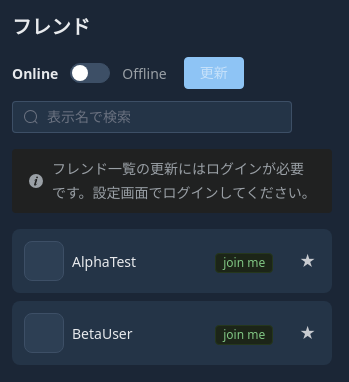
Test: FriendsView › filters friends by display name (case-insensitive)
# ElInput の data-testid は inner input に行くため直接 setValue
Type "beta" into the search field with test id "friends-search-display-name" at [164, 117], box 47,102 -> 281,132
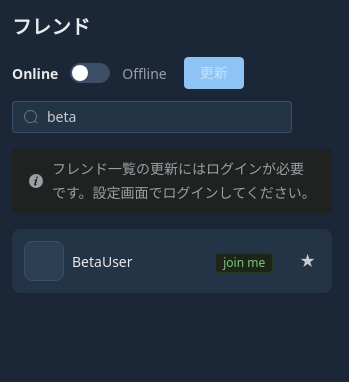
expect the text "BetaUser" is shown: met, box 72,252 -> 132,271
expect the text "AlphaTest" is gone: met
